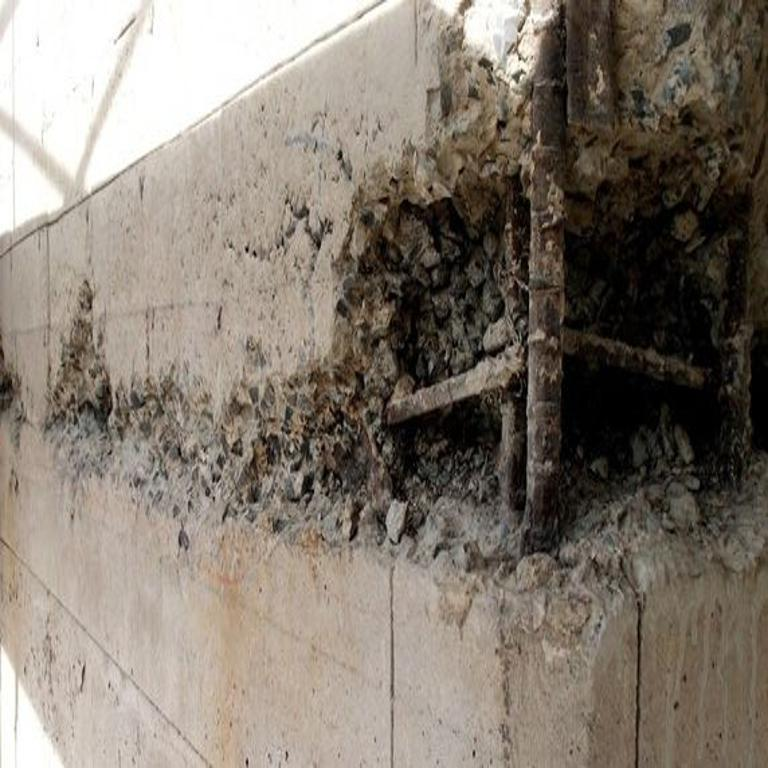exposed_rebar: (387, 0, 705, 554)
spalling: (48, 0, 768, 586), (1, 338, 15, 412)
